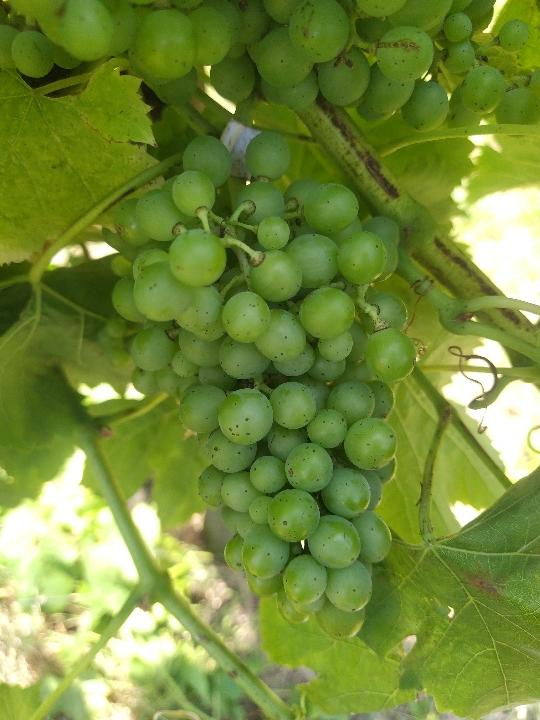grape: (110, 128, 420, 644)
